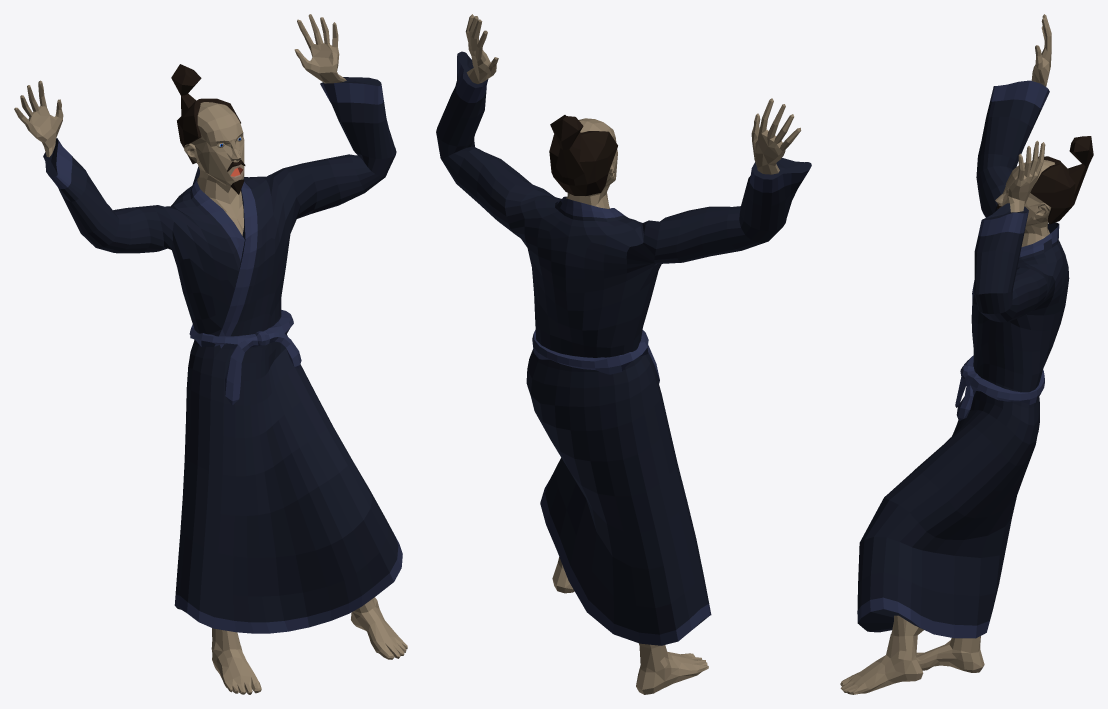
Rendered from samurai_static_death_01.glb.
3 views of the same model, side by side, from view 1: azimuth 30°, elevation 25°; view 2: azimuth 150°, elevation 25°; view 3: azimuth 270°, elevation 25° (orthographic). The views are drawn at different scales.
Parts seen in each view (by area): view 1: m_mesh_death_01; view 2: m_mesh_death_01; view 3: m_mesh_death_01.
Boxes of the visible parts, x1,y1,x2,y2 form: m_mesh_death_01: (14,14,407,694); m_mesh_death_01: (436,14,811,694); m_mesh_death_01: (840,14,1093,694).
Size of the model in its own units: 1.11 by 1.81 by 0.7068.
1 material, 1 textured.
